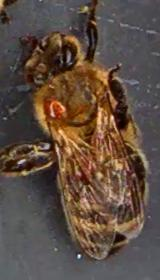varroa_mite: (41, 92, 75, 126)
